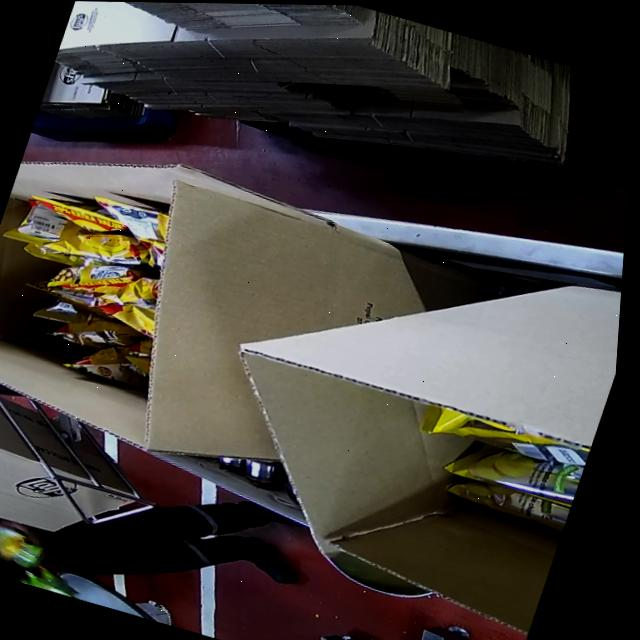SALTED: (0, 160, 170, 372), (388, 396, 595, 539)
